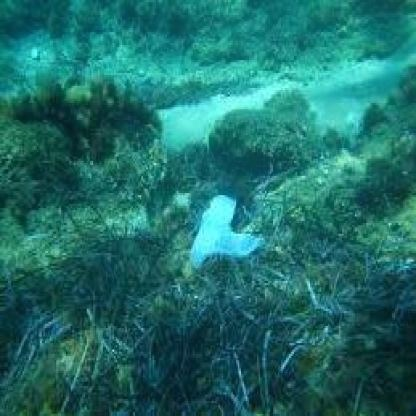pbag: (186, 191, 268, 268)
